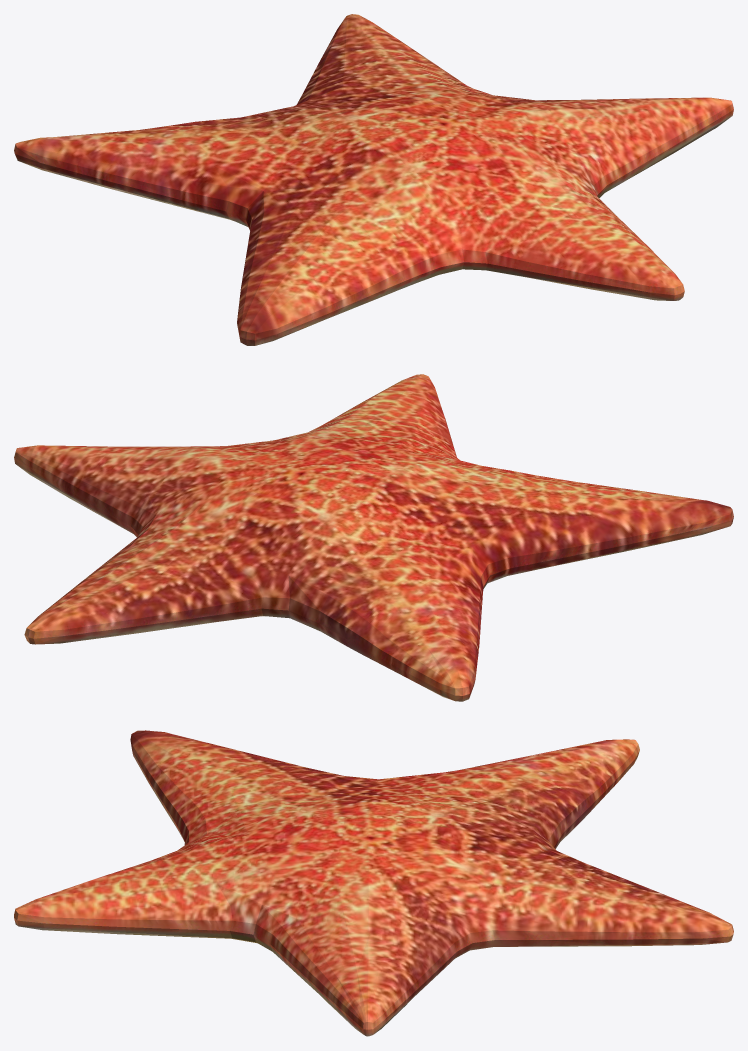
Rendered from MPS0HO5HRW7HPKO72X12940HW.obj.
The picture shows the model from 3 angles, top to bottom: view 1: azimuth 30°, elevation 25°; view 2: azimuth 150°, elevation 25°; view 3: azimuth 270°, elevation 25°; orthographic projection.
Parts seen in each view (by area): view 1: Object_TexMap_0; view 2: Object_TexMap_0; view 3: Object_TexMap_0.
Boxes of the visible parts, x1,y1,x2,y2 form: Object_TexMap_0: (14, 14, 733, 345); Object_TexMap_0: (14, 374, 733, 701); Object_TexMap_0: (14, 730, 733, 1036).
Bounding box in the file's own units: 2.41 × 0.2664 × 2.5.
1 material, 1 textured.
